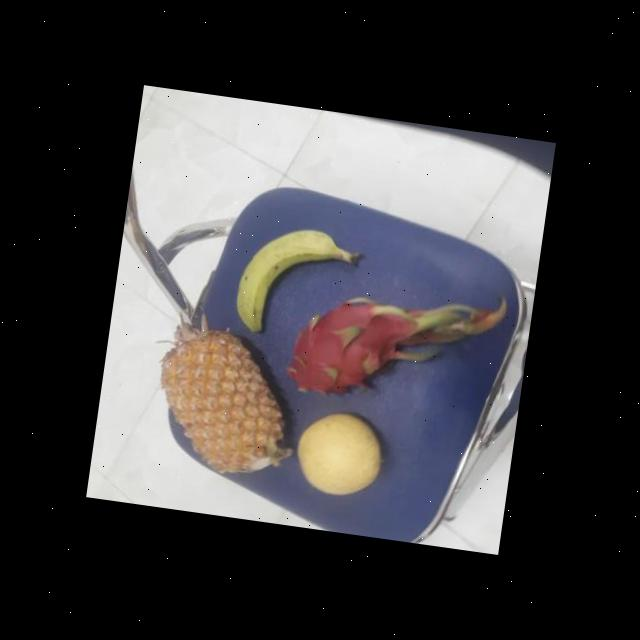banana: (228, 222, 350, 350)
guava: (293, 408, 385, 505)
pineapple: (148, 324, 308, 484)
pitaya: (284, 288, 416, 414)
